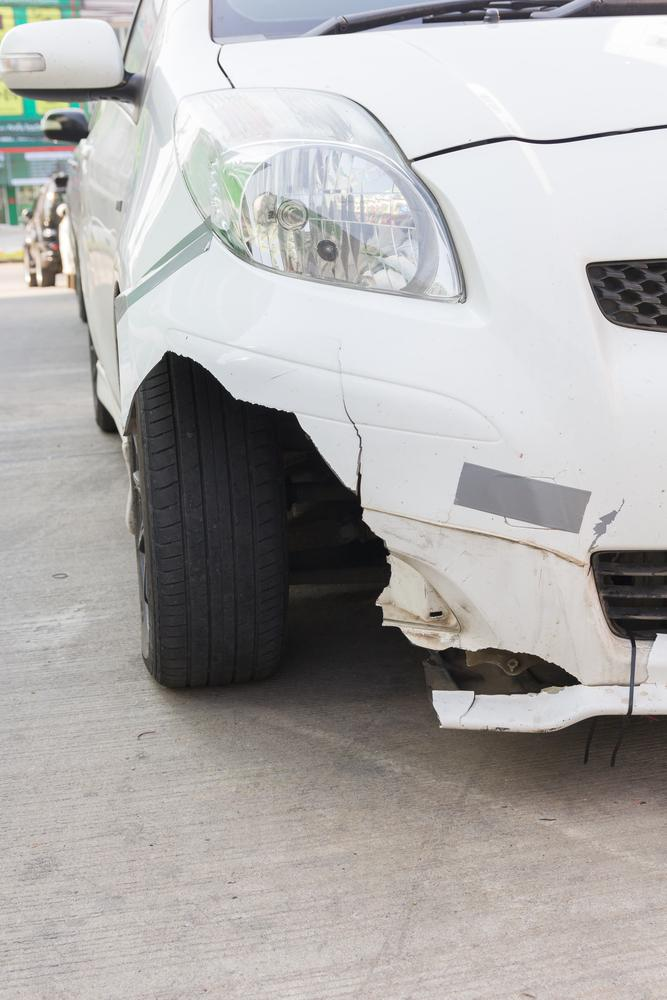crack: (407, 634, 585, 725), (337, 340, 365, 516)
